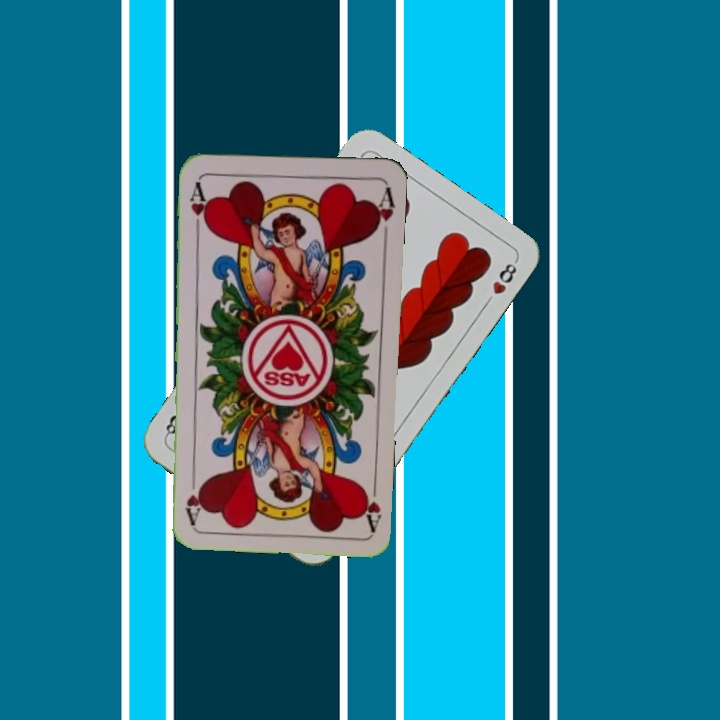HA: (356, 473, 384, 532), (185, 174, 211, 234)
